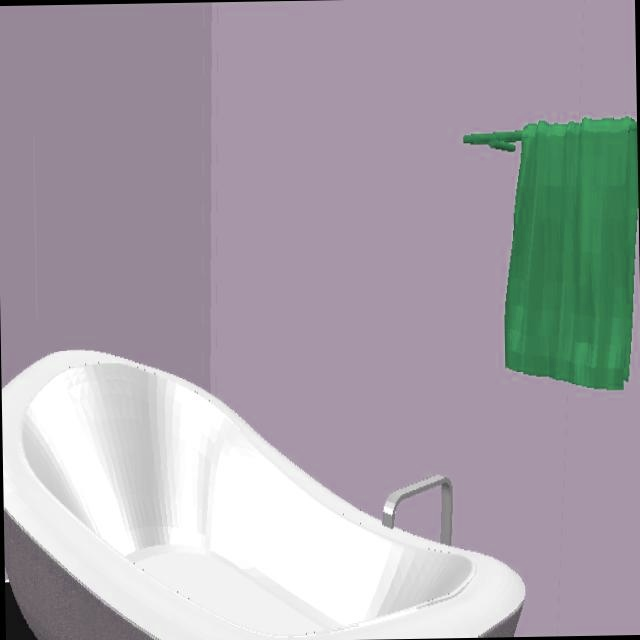bathtube: (1, 351, 527, 640)
